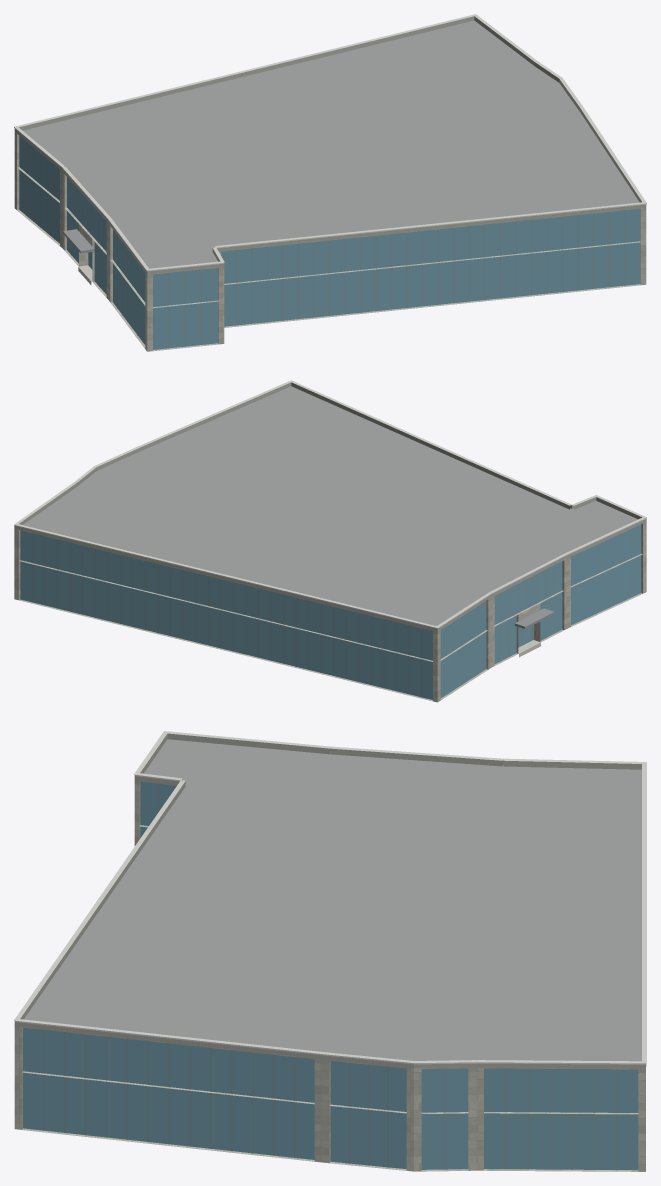
3 renders of one model, top to bottom at view 1: azimuth 30°, elevation 25°; view 2: azimuth 150°, elevation 25°; view 3: azimuth 270°, elevation 25°, orthographic. The views are drawn at different scales.
Parts seen in each view (by area): view 1: unist-batch-osm480637368__parapet, osm480637368__glass, osm480637368__wall, osm480637368__trim, osm480637368__frame; view 2: unist-batch-osm480637368__parapet, osm480637368__glass, osm480637368__wall, osm480637368__frame, osm480637368__trim; view 3: unist-batch-osm480637368__parapet, osm480637368__glass, osm480637368__wall, osm480637368__trim, osm480637368__frame.
Boxes of the visible parts, bbox=[...] form: unist-batch-osm480637368__parapet: bbox=[14, 16, 646, 351]; osm480637368__glass: bbox=[19, 136, 640, 349]; osm480637368__wall: bbox=[14, 131, 646, 351]; osm480637368__trim: bbox=[14, 14, 646, 271]; osm480637368__frame: bbox=[26, 141, 624, 348]; unist-batch-osm480637368__parapet: bbox=[14, 382, 646, 702]; osm480637368__glass: bbox=[20, 524, 641, 699]; osm480637368__wall: bbox=[14, 521, 646, 702]; osm480637368__frame: bbox=[32, 529, 631, 697]; osm480637368__trim: bbox=[14, 380, 646, 628]; unist-batch-osm480637368__parapet: bbox=[14, 733, 646, 1171]; osm480637368__glass: bbox=[23, 781, 638, 1170]; osm480637368__wall: bbox=[14, 780, 645, 1171]; osm480637368__trim: bbox=[14, 731, 646, 1064]; osm480637368__frame: bbox=[43, 783, 616, 1170].
Size of the model in its own units: 56.1 by 8.95 by 45.16.
7 materials, 1 textured.
